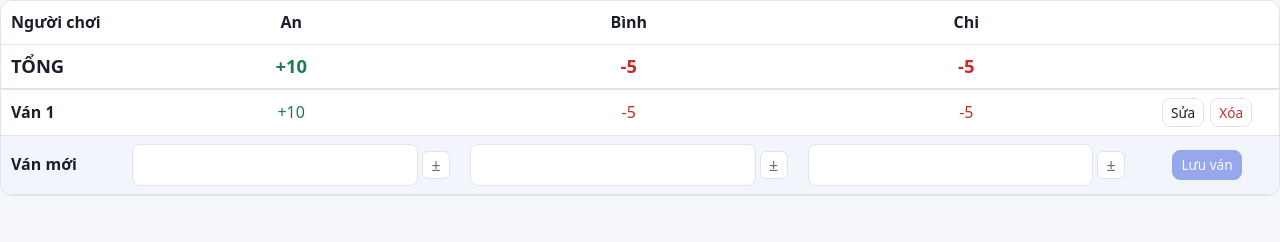
Test: ScoreTable new round row › clears the row and refocuses the first cell after saving
This screenshot has width=1280, height=242.
Type "10" into the field named "Ván mới, điểm An" at {"x": 275, "y": 165}, box [132,144,418,186]
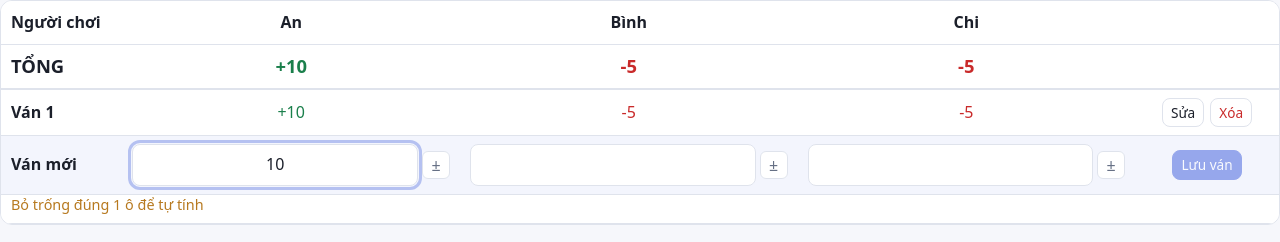
Type "-5" into the field named "Ván mới, điểm Bình" at {"x": 613, "y": 165}, box [470,144,756,186]
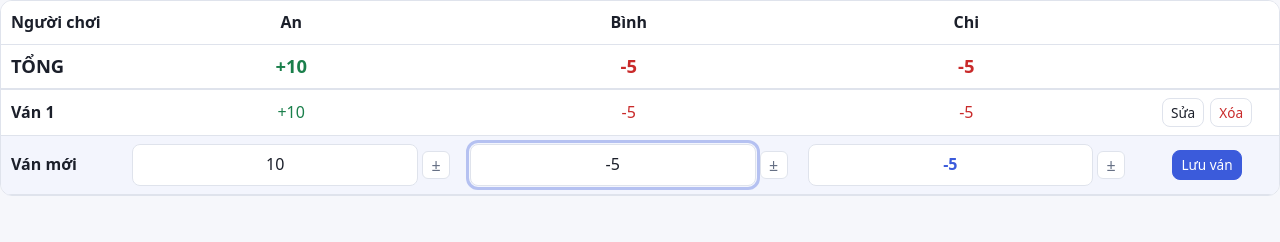
Click the button "Lưu ván" at {"x": 1207, "y": 165}, box [1172,150,1242,180]
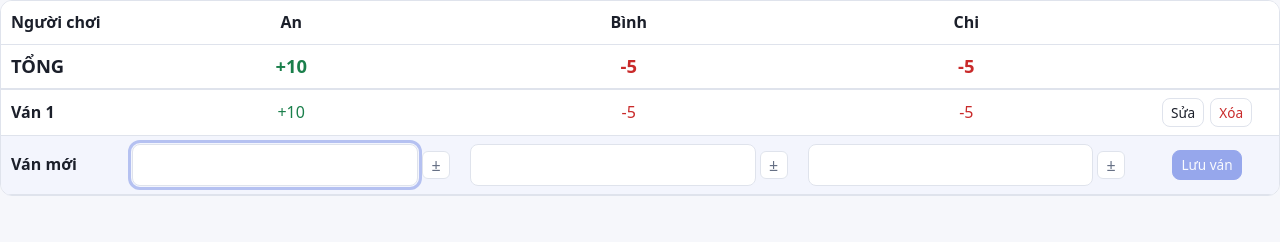
Check: the field named "Ván mới, điểm An" is empty, box [132,144,418,186]
